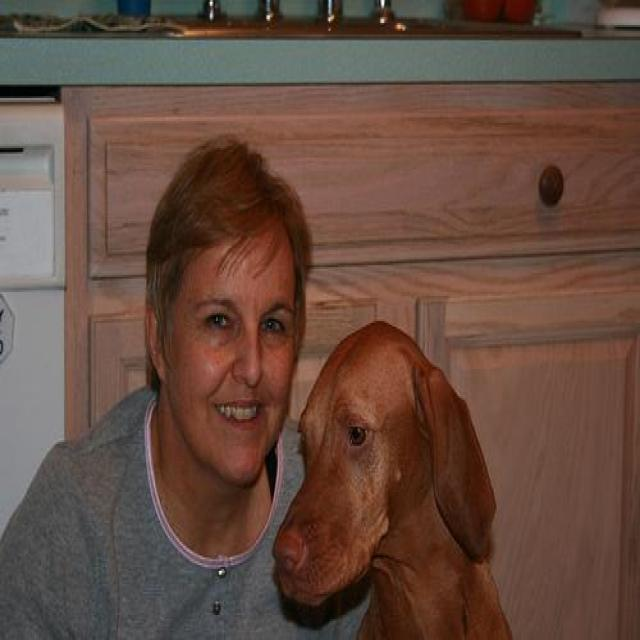vizsla: (269, 317, 516, 638)
